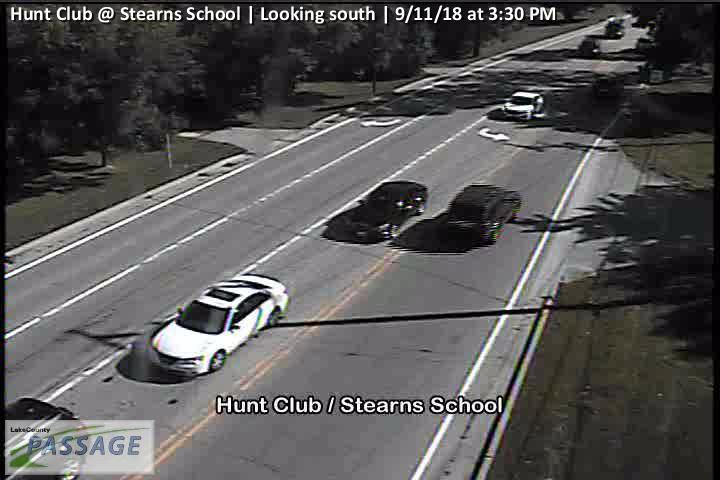SUV: (1, 396, 89, 480)
Sedan: (147, 273, 289, 377), (332, 178, 428, 242), (442, 183, 520, 247), (501, 91, 544, 118), (593, 71, 625, 96), (605, 17, 626, 36), (577, 38, 599, 54)
